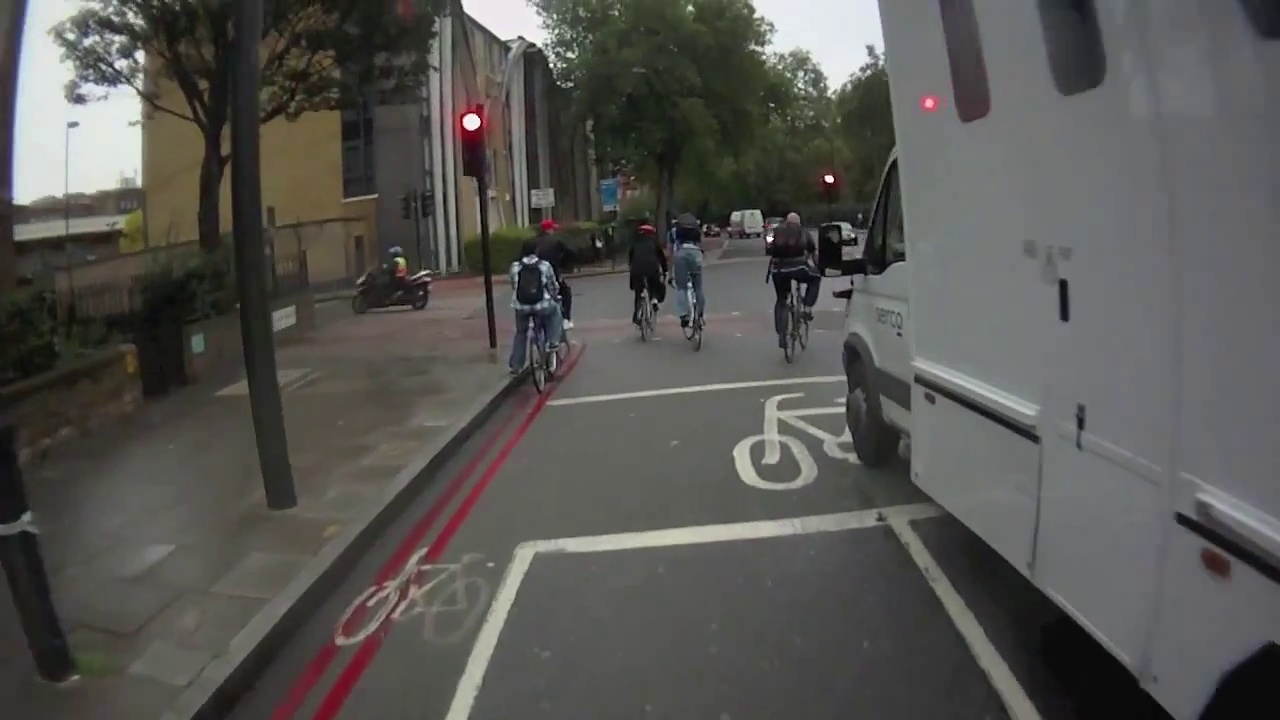cyclist_back: (510, 238, 576, 399), (765, 202, 820, 363), (671, 206, 720, 357), (630, 208, 670, 346)
